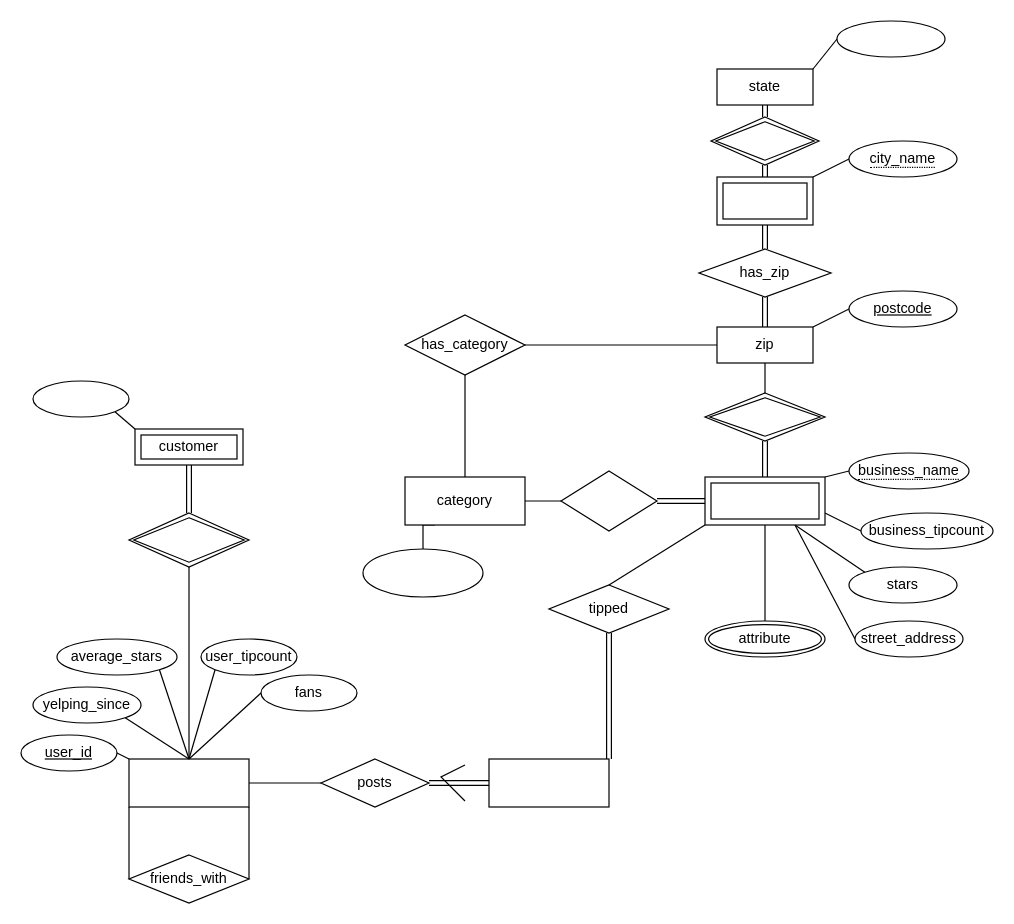
The diagram is 1014 pixels wide and 924 high, and some of its shapes have lost their labels. Each missing label, with the centre of its shape:
business: (x=764, y=500)
category_name: (x=422, y=572)
city: (x=764, y=200)
first_name: (x=80, y=398)
in_category: (x=608, y=500)
in_state: (x=764, y=140)
in_zip: (x=764, y=416)
named: (x=188, y=539)
state_name: (x=890, y=38)
tip: (x=548, y=782)
user: (x=188, y=782)
